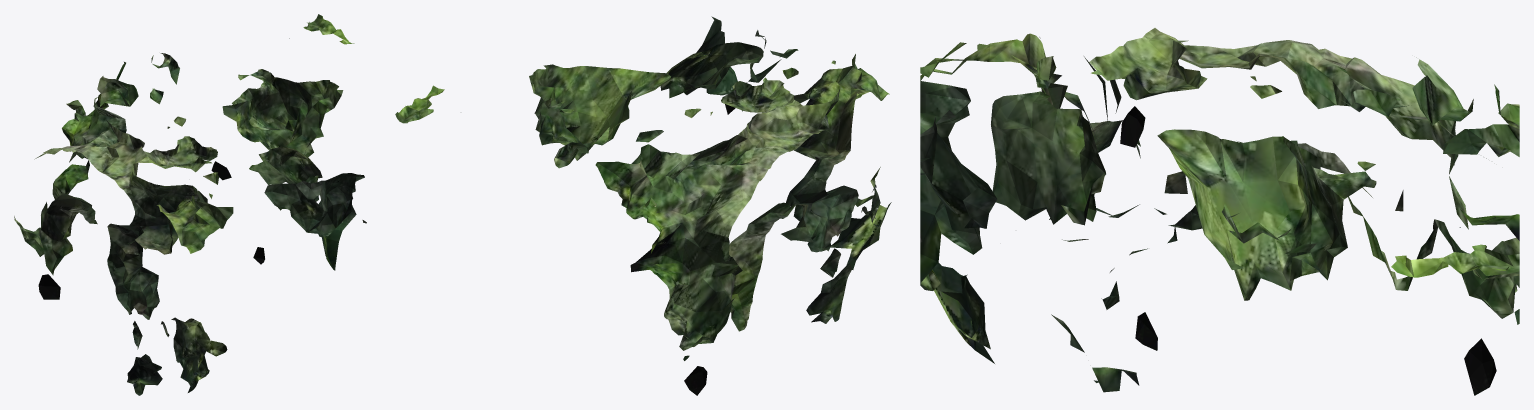
The picture shows the model from 3 angles, left to right: view 1: azimuth 30°, elevation 25°; view 2: azimuth 150°, elevation 25°; view 3: azimuth 270°, elevation 25°; orthographic projection. The views are drawn at different scales.
Size of the model in its own units: 26.11 by 17.66 by 26.11.
3 materials, 3 textured.
